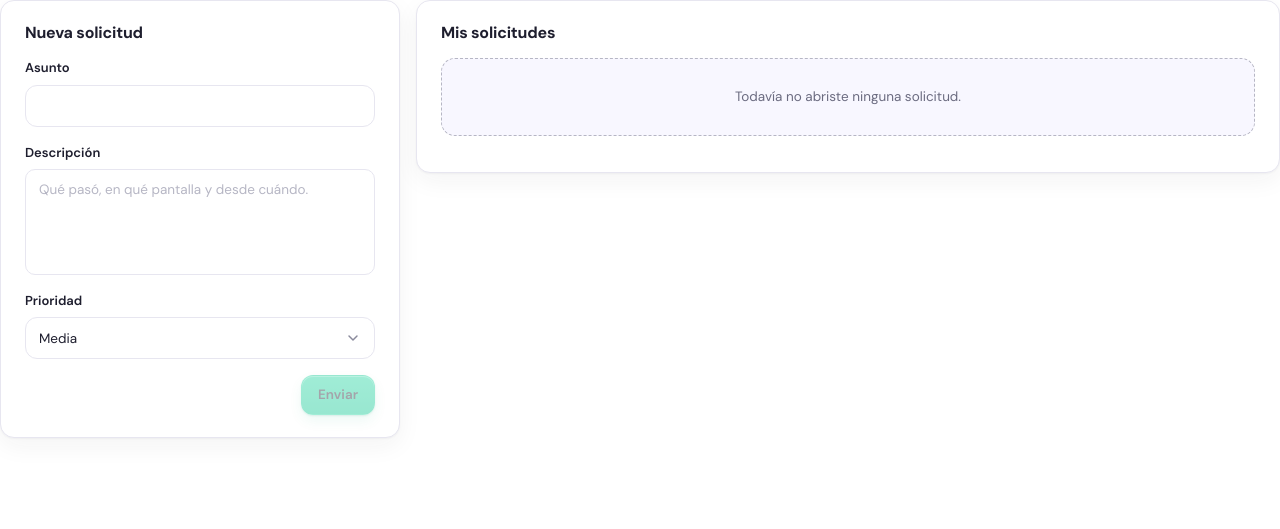
Test: PAN-SOP-01 · soporte › un rechazo del backend se muestra con su frase
This screenshot has width=1280, height=529.
Type "x" into the field labelled "Asunto" at (200, 106), box x1=25 y1=85 x2=375 y2=127
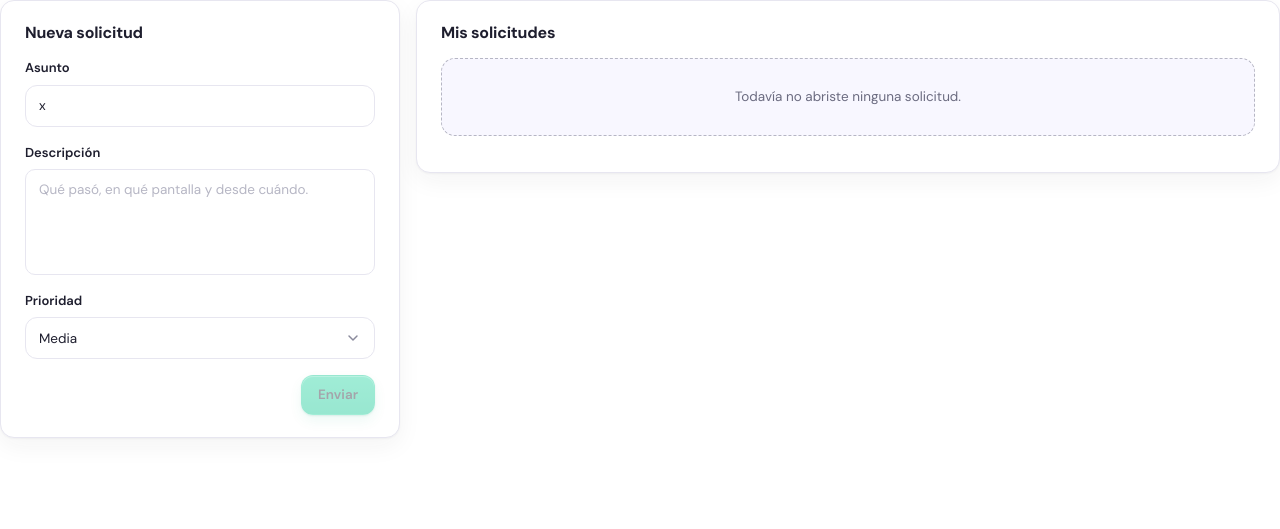
Type "y" into the text box labelled "Descripción" at (200, 222), box x1=25 y1=169 x2=375 y2=275
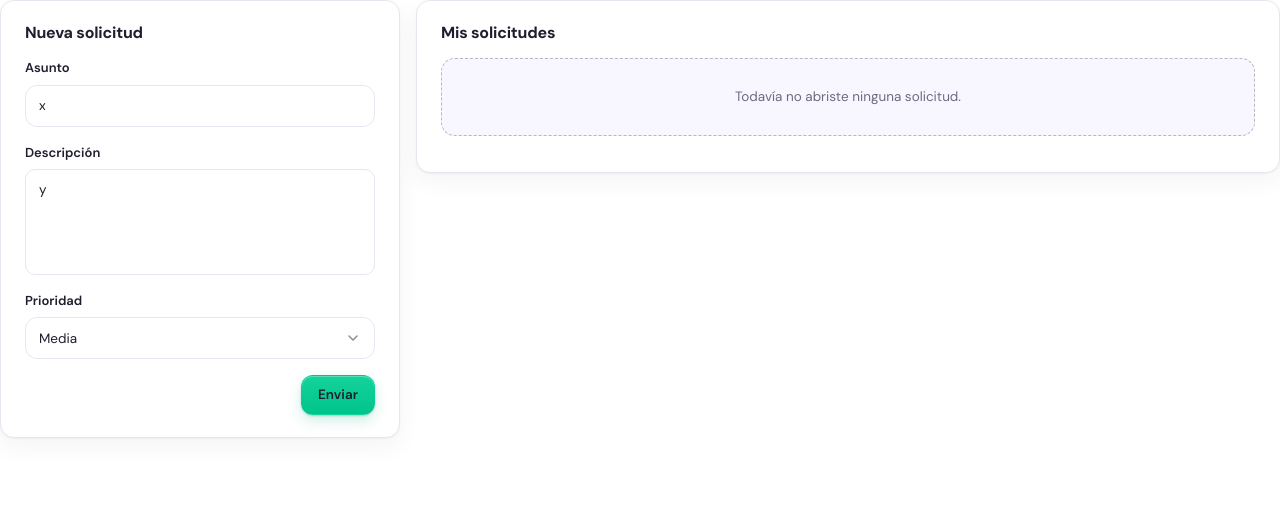
Click the button "Enviar" at (338, 395), box x1=301 y1=375 x2=375 y2=415
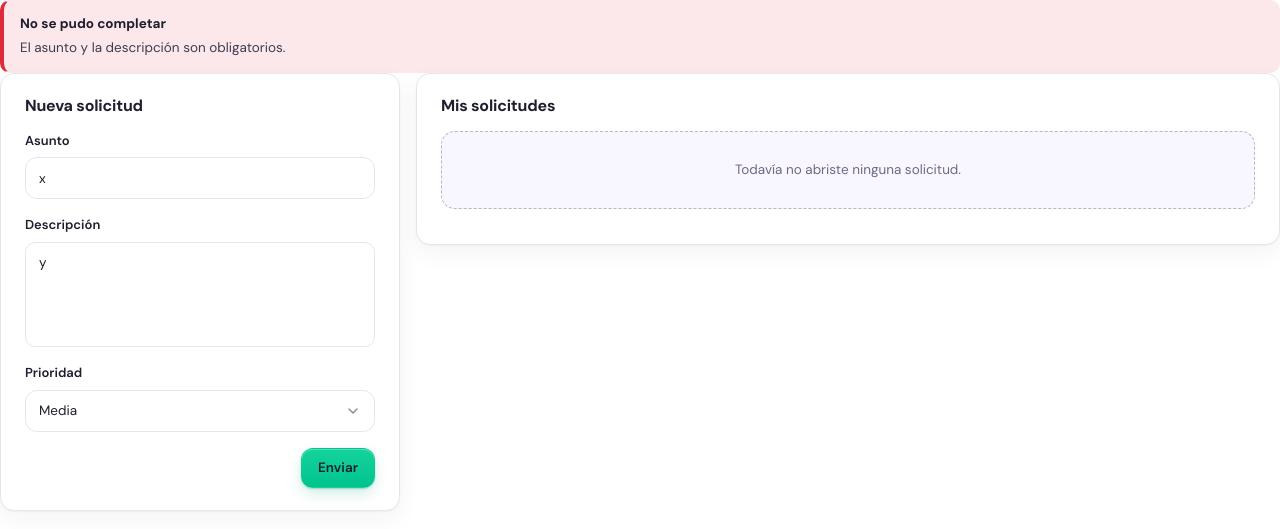
Result: the text "El asunto y la descripción son obligatorios." is shown at x1=20 y1=39 x2=286 y2=56
